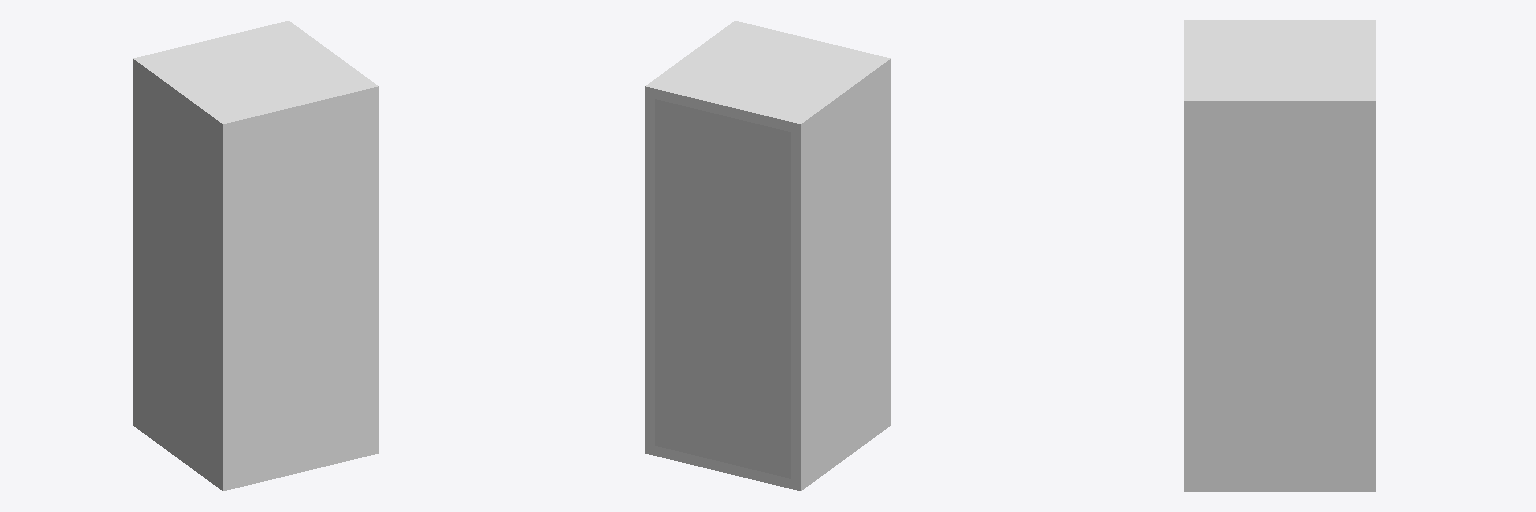
robot.urdf — refrigerator:
<?xml version="1.0"?>
<robot name="refrigerator">
  <material name="body_mat">
    <color rgba="0.95 0.95 0.95 1.0"/>
  </material>
  <material name="door_mat">
    <color rgba="0.9 0.9 0.9 1.0"/>
  </material>
  <material name="shelf_mat">
    <color rgba="0.8 0.9 1.0 0.5"/>
  </material>

  <link name="base_link">
    <inertial>
      <mass value="50.0"/>
      <origin xyz="0 0 0.9" rpy="0 0 0"/>
      <inertia ixx="16.0" ixy="0" ixz="0" iyy="16.0" iyz="0" izz="5.3"/>
    </inertial>
    
    <!-- Bottom -->
    <visual><origin xyz="0 0 0.025" rpy="0 0 0"/><geometry><box size="0.8 0.8 0.05"/></geometry><material name="body_mat"/></visual>

    <!-- Top -->
    <visual><origin xyz="0 0 1.775" rpy="0 0 0"/><geometry><box size="0.8 0.8 0.05"/></geometry><material name="body_mat"/></visual>

    <!-- Left -->
    <visual><origin xyz="-0.375 0 0.9" rpy="0 0 0"/><geometry><box size="0.05 0.8 1.7"/></geometry><material name="body_mat"/></visual>

    <!-- Right -->
    <visual><origin xyz="0.375 0 0.9" rpy="0 0 0"/><geometry><box size="0.05 0.8 1.7"/></geometry><material name="body_mat"/></visual>

    <!-- Back -->
    <visual><origin xyz="0 -0.375 0.9" rpy="0 0 0"/><geometry><box size="0.7 0.05 1.7"/></geometry><material name="body_mat"/></visual>

    <!-- Shelf 1 -->
    <visual><origin xyz="0 -0.025 0.6" rpy="0 0 0"/><geometry><box size="0.7 0.65 0.02"/></geometry><material name="shelf_mat"/></visual>

    <!-- Shelf 2 -->
    <visual><origin xyz="0 -0.025 1.2" rpy="0 0 0"/><geometry><box size="0.7 0.65 0.02"/></geometry><material name="shelf_mat"/></visual>

    <!-- Container Collision as a single bounding box -->
    <collision>
      <origin xyz="0 0 0.9" rpy="0 0 0"/>
      <geometry><box size="0.8 0.8 1.8"/></geometry>
    </collision>
  </link>

  <link name="door_link">
    <inertial>
      <mass value="5.0"/>
      <origin xyz="0.35 0 0" rpy="0 0 0"/>
      <inertia ixx="1.2" ixy="0" ixz="0" iyy="0.2" iyz="0" izz="1.2"/>
    </inertial>
    <visual>
      <origin xyz="0.35 0 0" rpy="0 0 0"/>
      <geometry><box size="0.7 0.05 1.7"/></geometry>
      <material name="door_mat"/>
    </visual>
    <collision>
      <origin xyz="0.35 0 0" rpy="0 0 0"/>
      <geometry><box size="0.7 0.05 1.7"/></geometry>
    </collision>
  </link>

  <joint name="door_joint" type="revolute">
    <parent link="base_link"/>
    <child link="door_link"/>
    <!-- Left front edge -->
    <origin xyz="-0.35 0.375 0.9" rpy="0 0 0"/>
    <axis xyz="0 0 1"/>
    <limit lower="0" upper="2.0" effort="100.0" velocity="1.0"/>
    <dynamics damping="1.0" friction="1.0"/>
  </joint>
</robot>

--- What the picture shows (computed from the rendered views, not written in the file) ---
3 views of the same robot in one strip: view 1: azimuth 30°, elevation 25°; view 2: azimuth 150°, elevation 25°; view 3: azimuth 270°, elevation 25° (orthographic).
Robot: refrigerator — 2 links, 1 joints (1 revolute); root link base_link; default pose: every joint at zero.
Links seen in each view (by area): view 1: base_link; view 2: base_link, door_link; view 3: base_link.
Boxes of the visible links, x1,y1,x2,y2 form: base_link: [133, 21, 378, 490]; base_link: [645, 21, 890, 490]; door_link: [655, 99, 790, 478]; base_link: [1184, 20, 1375, 491].
Bounding box of the posed robot: 0.8 × 0.8 × 1.8 m (x, y, z).
Geometry: primitives only (box / cylinder / sphere), no mesh files.
